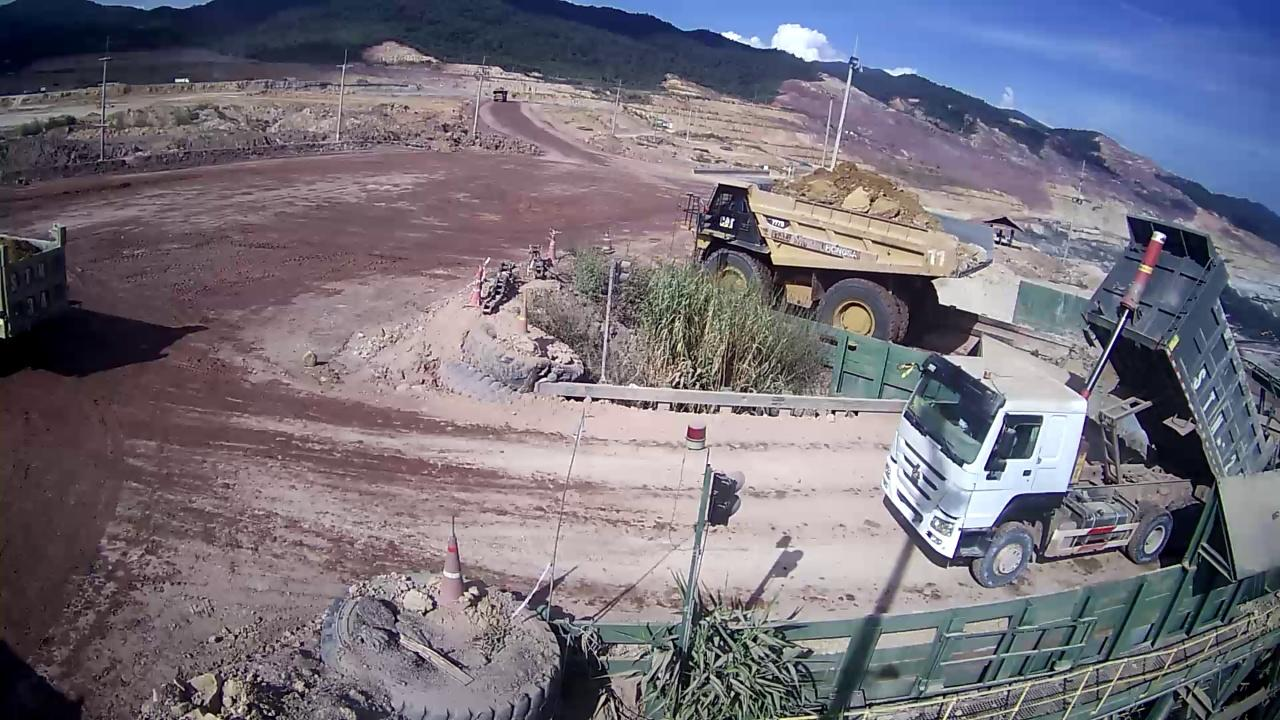company: (768, 233, 869, 258)
full_load: (776, 157, 914, 208)
mining_truck: (679, 156, 997, 348)
tail_number: (926, 240, 949, 268)
truck_size: (760, 212, 794, 232)
